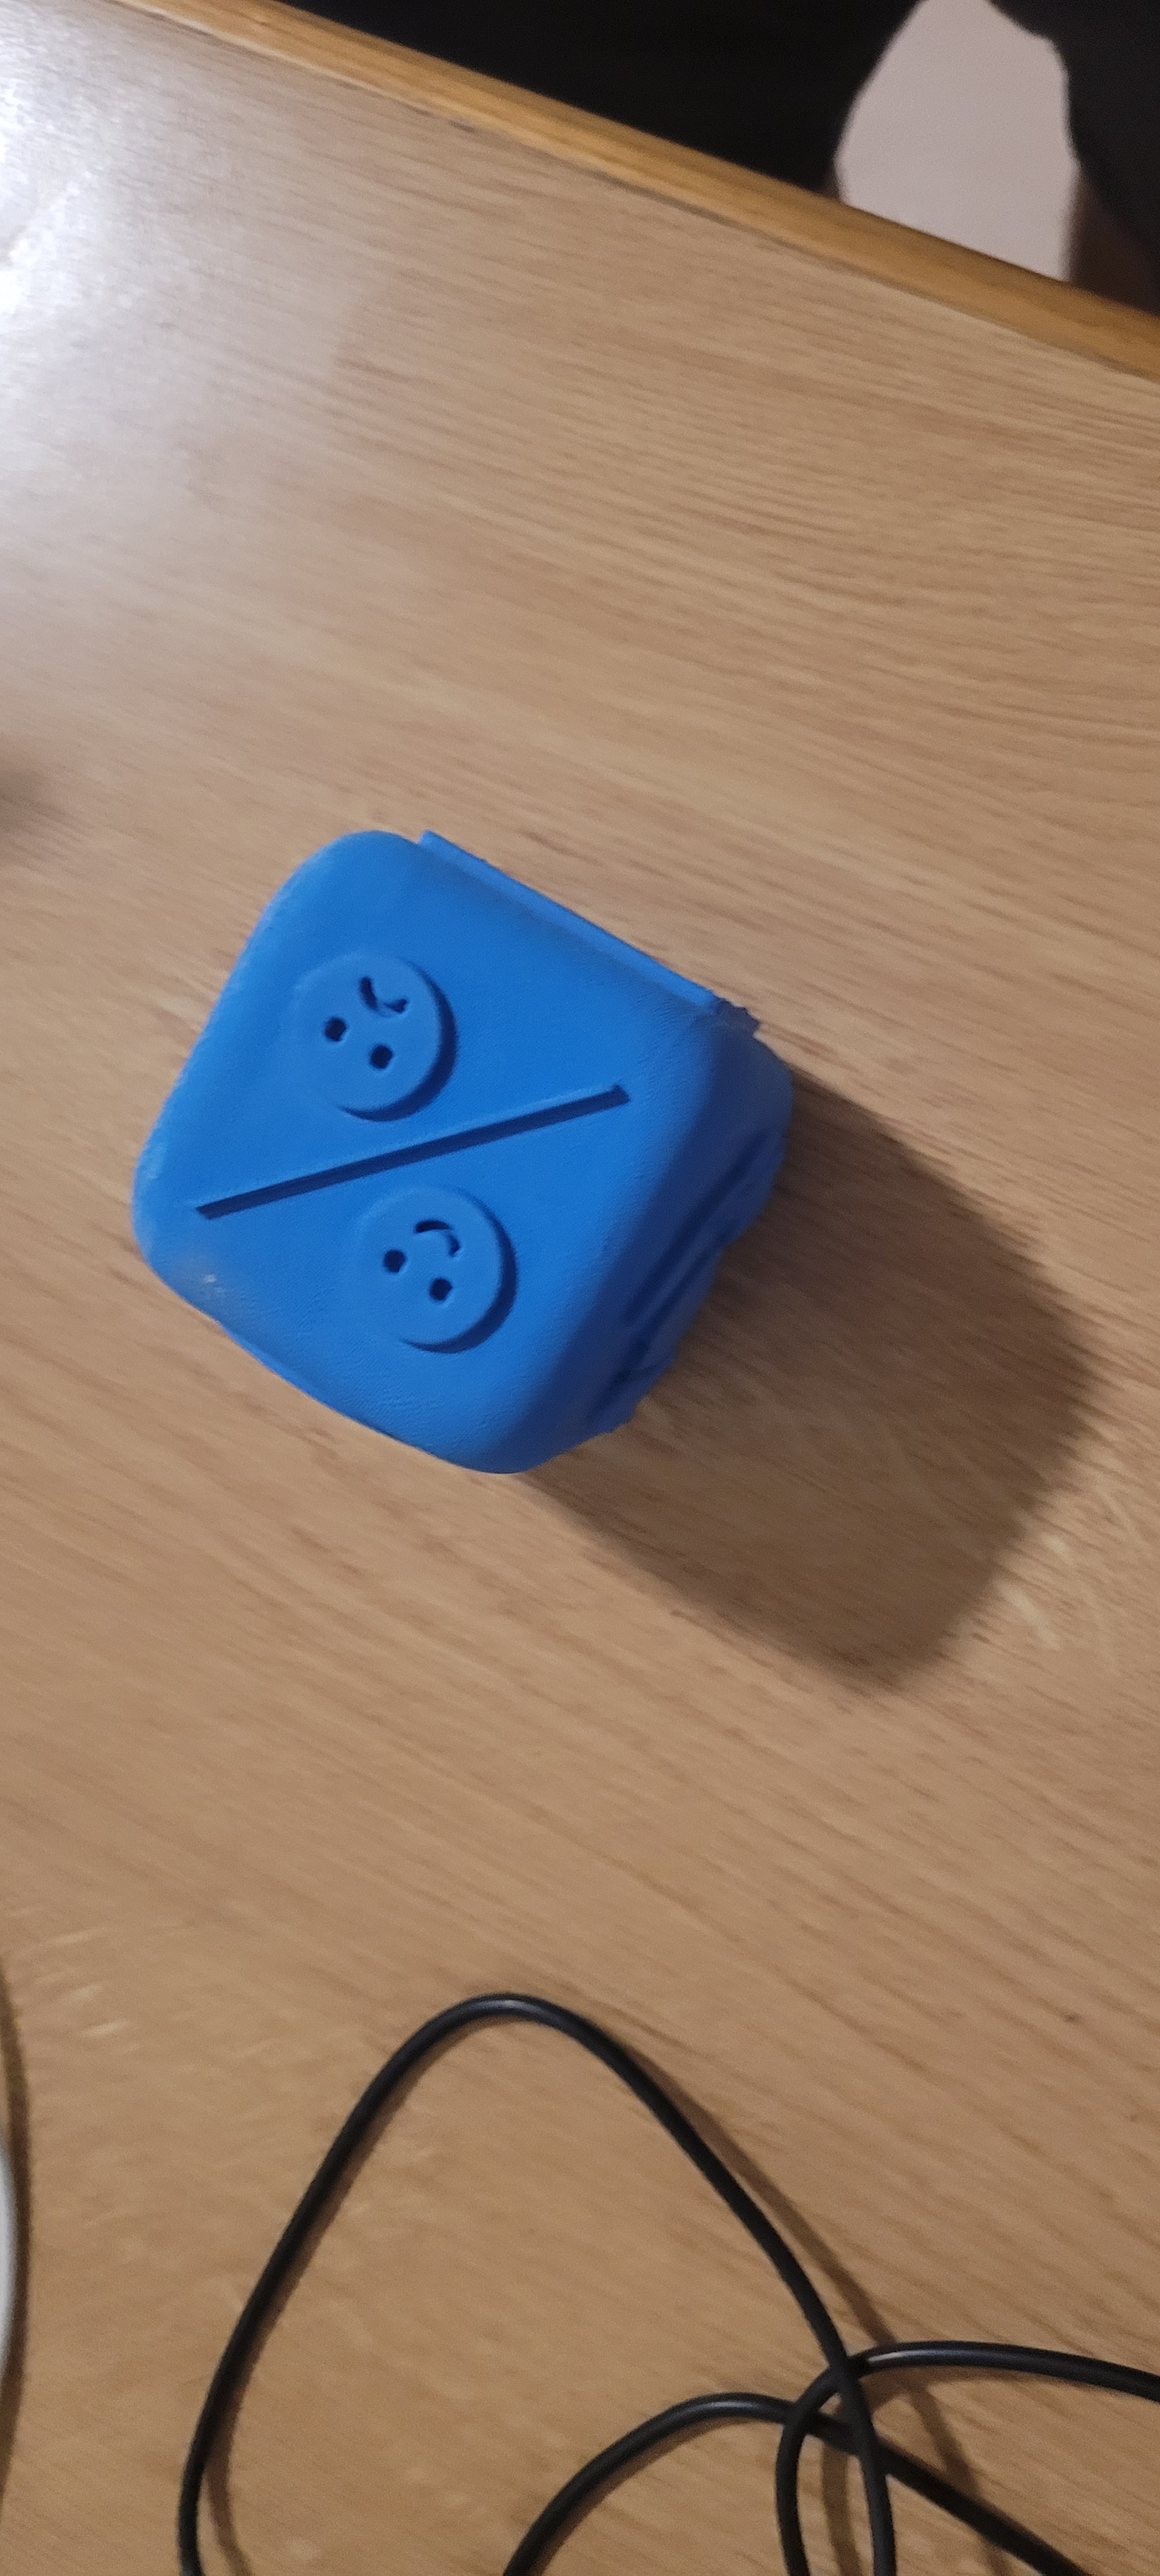Like/Dislike: (228, 782, 656, 1380)
